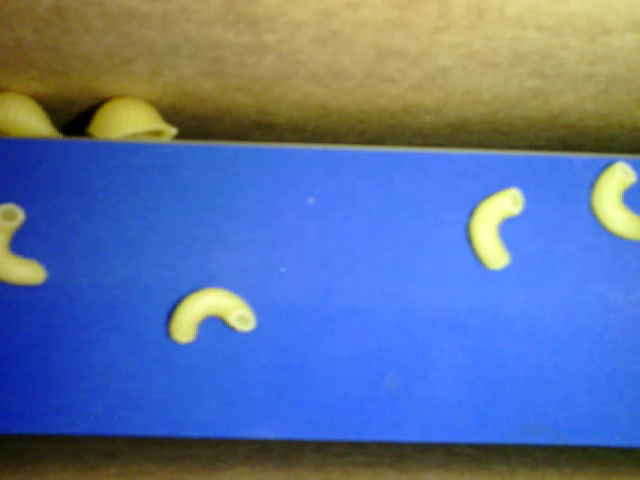elbow: (467, 187, 531, 272), (167, 284, 255, 344), (1, 198, 53, 286), (589, 157, 639, 243)
shell: (86, 92, 179, 143), (1, 82, 63, 141)
